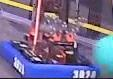blue_number: (13, 55, 26, 78), (70, 69, 97, 79)
